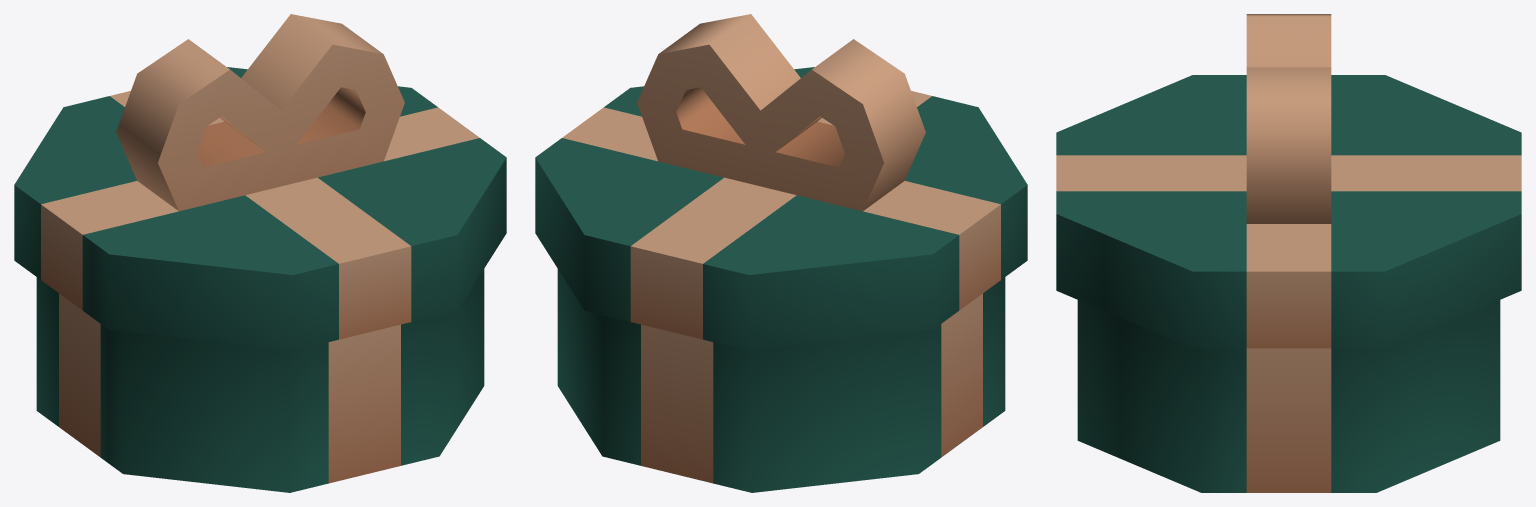
File: present-b-round.glb
3 views of the same model, side by side, from view 1: azimuth 30°, elevation 25°; view 2: azimuth 150°, elevation 25°; view 3: azimuth 270°, elevation 25° (orthographic).
Parts seen in each view (by area): view 1: lid, present-b-round; view 2: lid, present-b-round; view 3: lid, present-b-round.
Part boxes in pixels (x1,y1,x2,y2): lid: (14,14,506,350); present-b-round: (36,269,484,492); lid: (535,14,1027,350); present-b-round: (557,269,1005,492); lid: (1056,14,1521,348); present-b-round: (1077,300,1500,492).
Bounding box in the file's own units: 0.5489 × 0.4707 × 0.5489.
